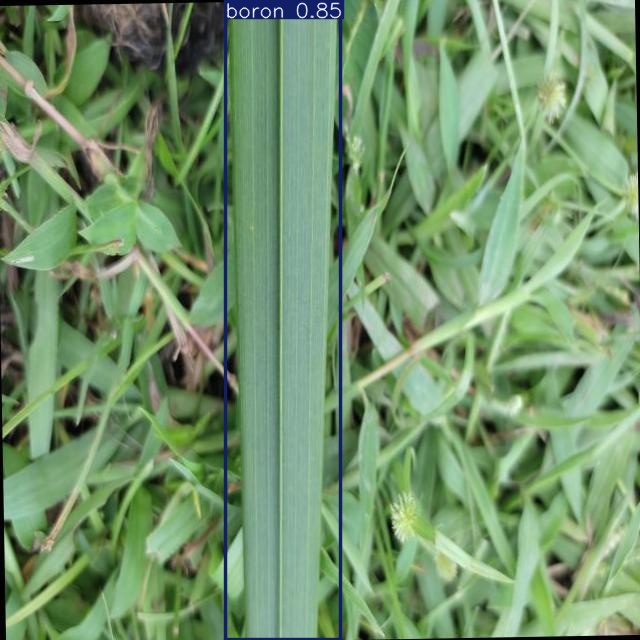nitrogen: (225, 0, 341, 640)
